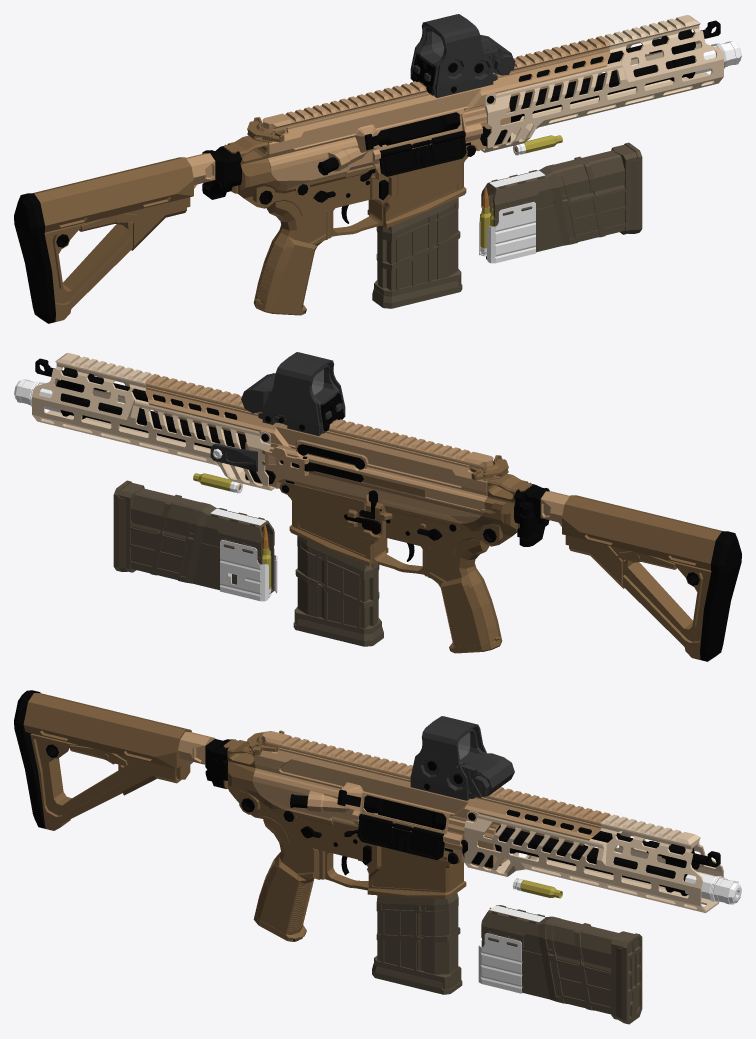
File: gun.glb
The picture shows the model from 3 angles, top to bottom: view 1: azimuth 30°, elevation 25°; view 2: azimuth 150°, elevation 25°; view 3: azimuth 330°, elevation 25°; orthographic projection.
Parts seen in each view (by area): view 1: Object_4, Object_49; view 2: Object_4, Object_49; view 3: Object_4, Object_49.
Part boxes in pixels (x1,y1,x2,y2): Object_4: [14, 14, 741, 323]; Object_49: [268, 246, 314, 308]; Object_4: [14, 352, 741, 661]; Object_49: [441, 584, 487, 646]; Object_4: [14, 690, 741, 1024]; Object_49: [256, 866, 298, 934].
Bounding box in the file's own units: 8.08 × 2.84 × 0.6672.
4 materials, 3 textured.
